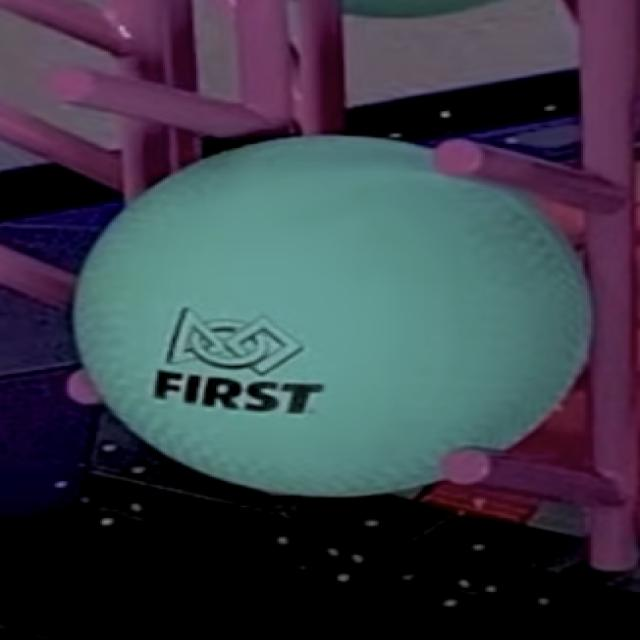Algae: (78, 137, 585, 497), (341, 0, 496, 19)
Reef: (50, 66, 260, 141), (430, 141, 620, 213), (0, 84, 126, 189), (444, 450, 624, 508), (0, 218, 77, 312), (0, 0, 126, 55)
